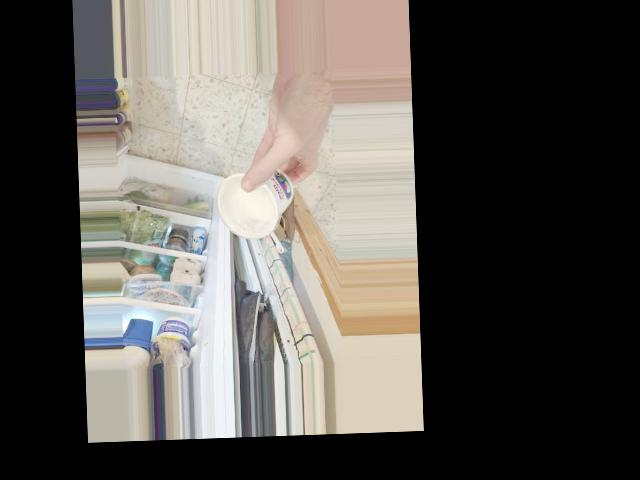cotage: (217, 163, 300, 244)
